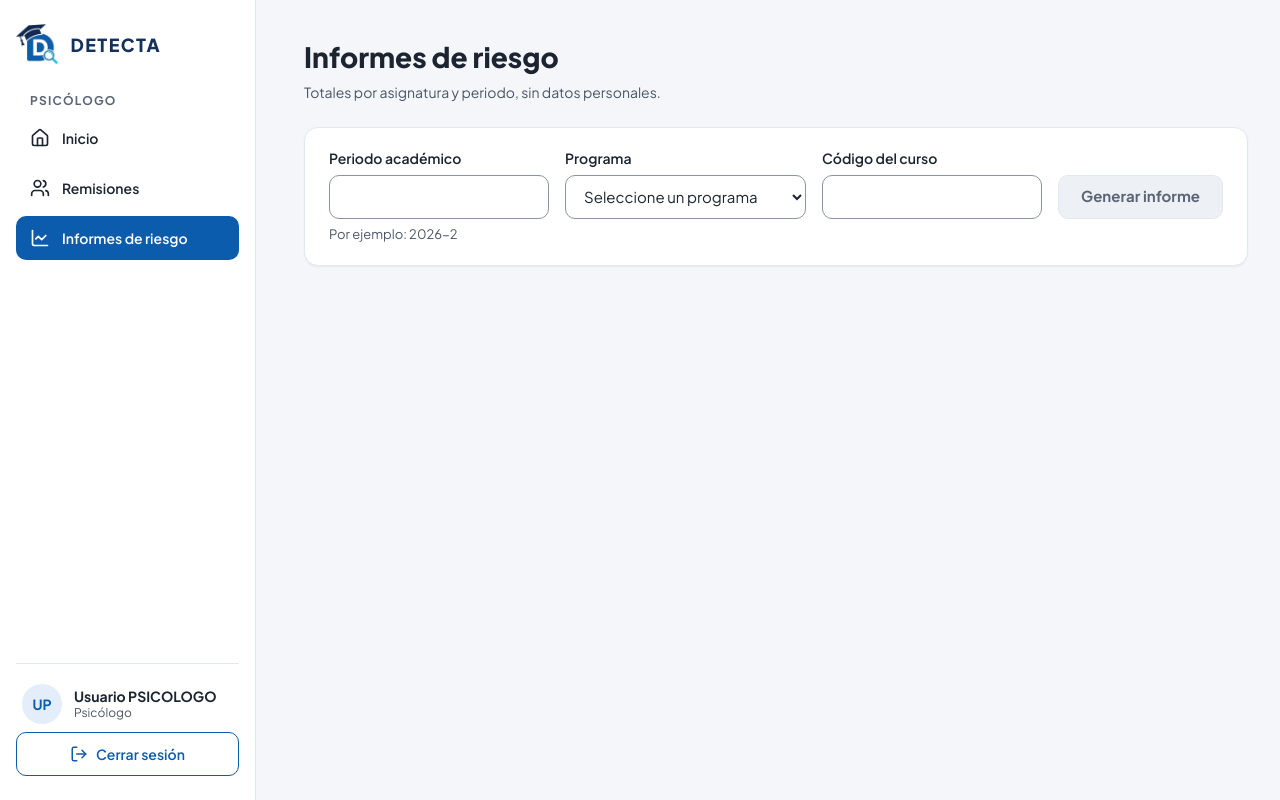
Informes de riesgo (CUD10, Psicólogo) › envía idPrograma resuelto desde la posición seleccionada y presenta 200 sin datos
This screenshot has width=1280, height=800.
Type "2026-2" into the field labelled "Periodo académico" at (439, 197), box [329,175,549,219]
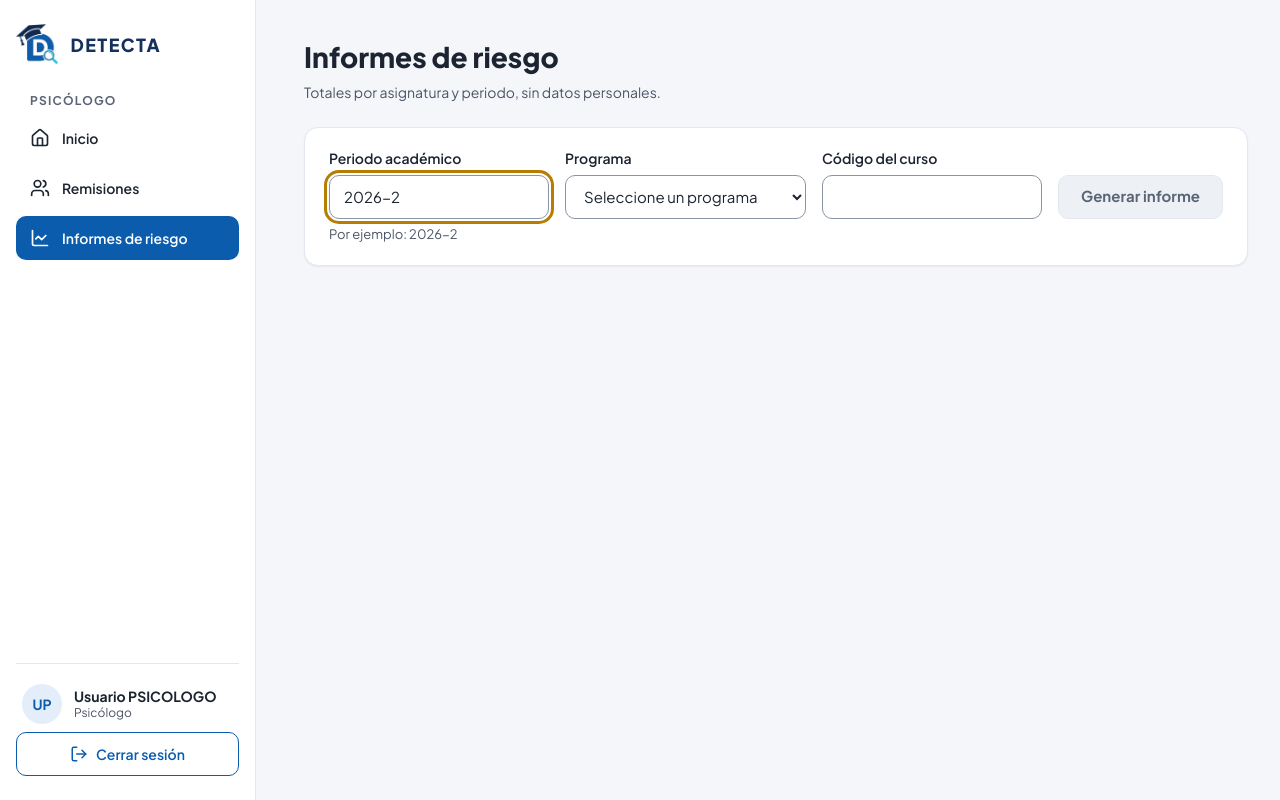
Type "MAT-201" into the field labelled "Código del curso" at (932, 197), box [822,175,1042,219]
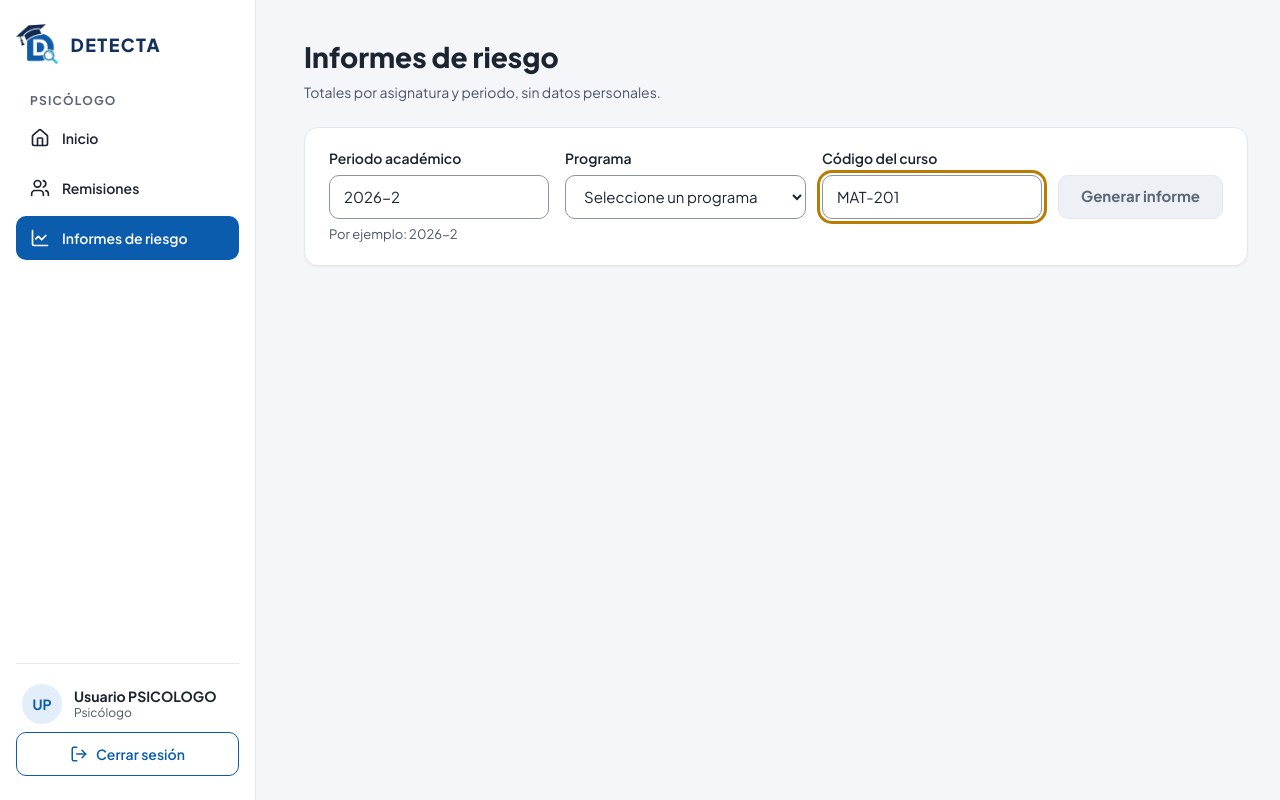
Select "Psicología" in the dropdown labelled "Programa" at (686, 197), box [565,175,806,219]
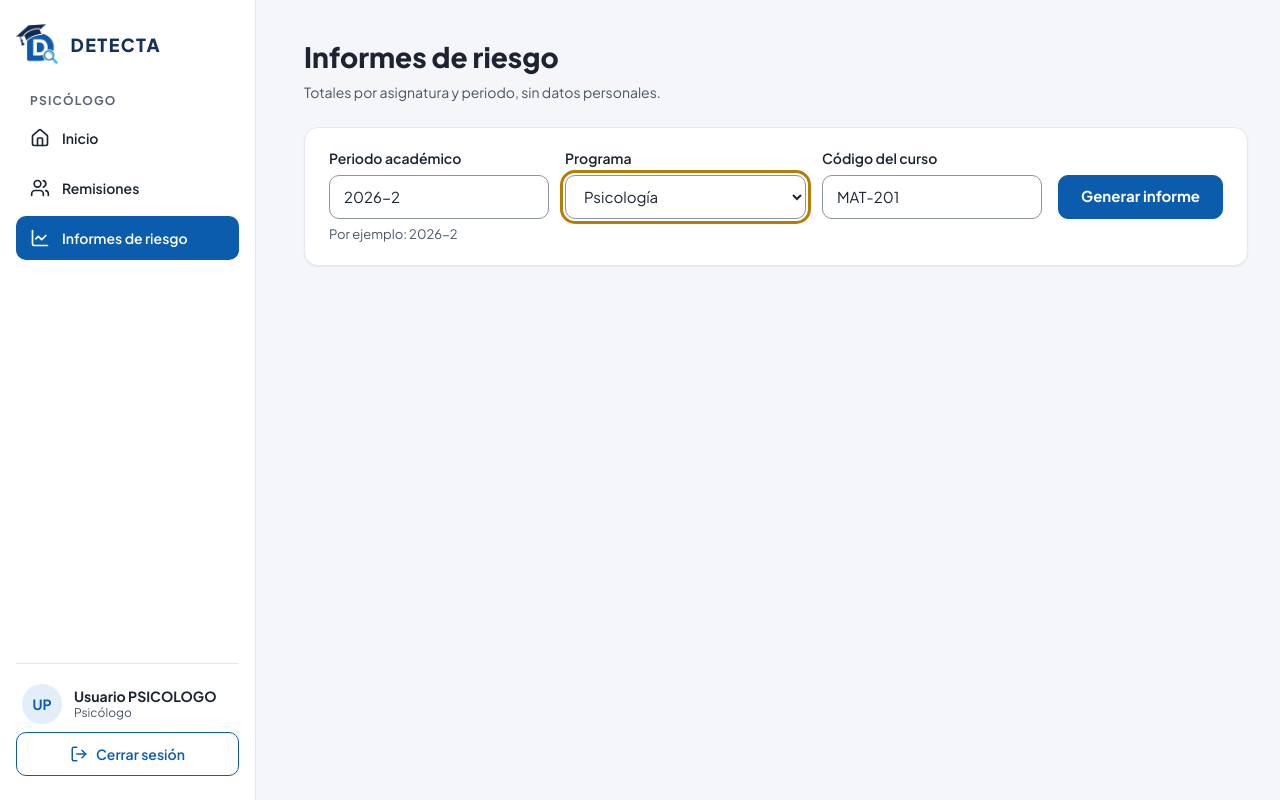
Click the button "Generar informe" at (1141, 197), box [1058,175,1223,219]
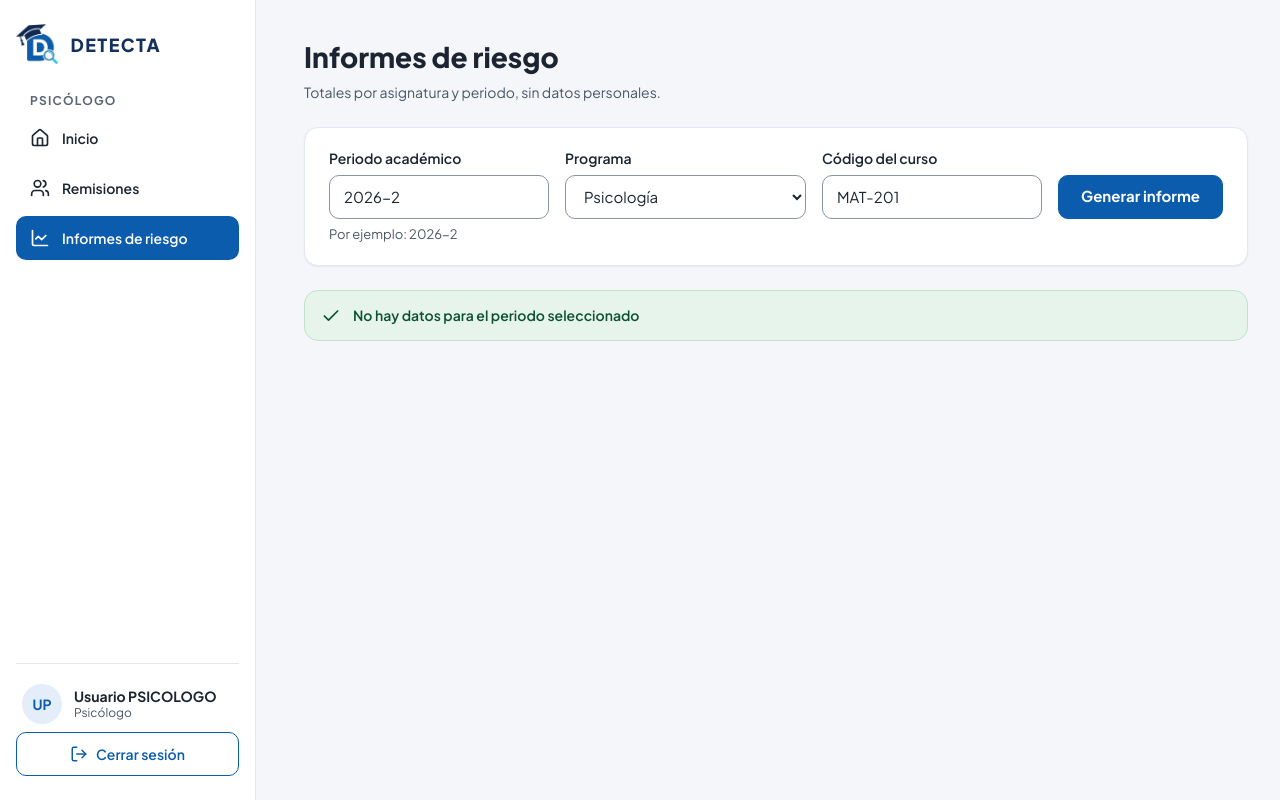
Expected: the message reads "No hay datos para el periodo seleccionado", [353,306,640,324]
